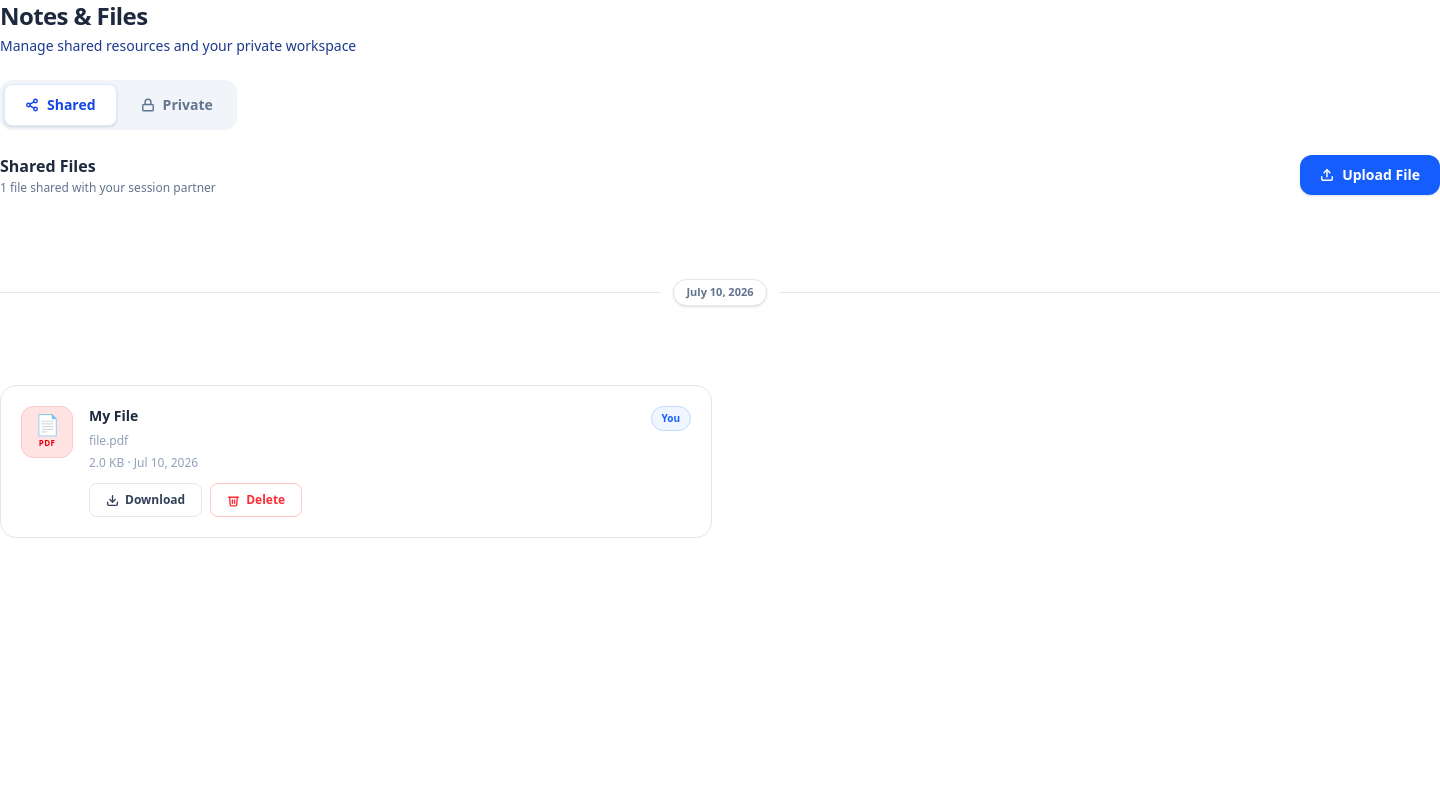
Scenario: SharedNotesTab › opens the upload modal when Upload File is clicked
Click the button "Upload File".
click(1370, 175)  # box [1300, 155, 1439, 195]
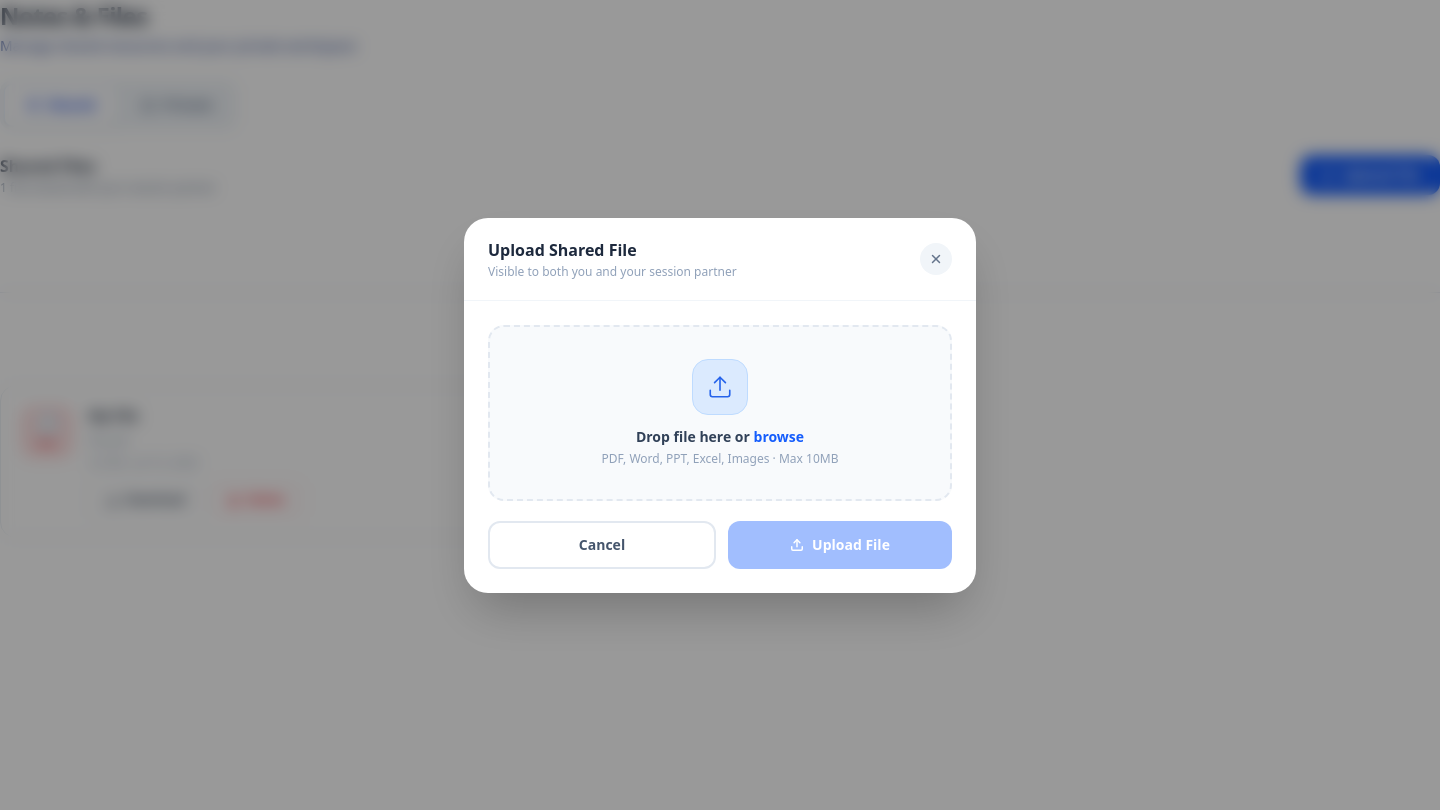
Expected: the heading "Upload Shared File" is shown, [488, 238, 637, 260]
Expected: the text "Visible to both you and your session partner" is shown, [488, 264, 737, 280]
